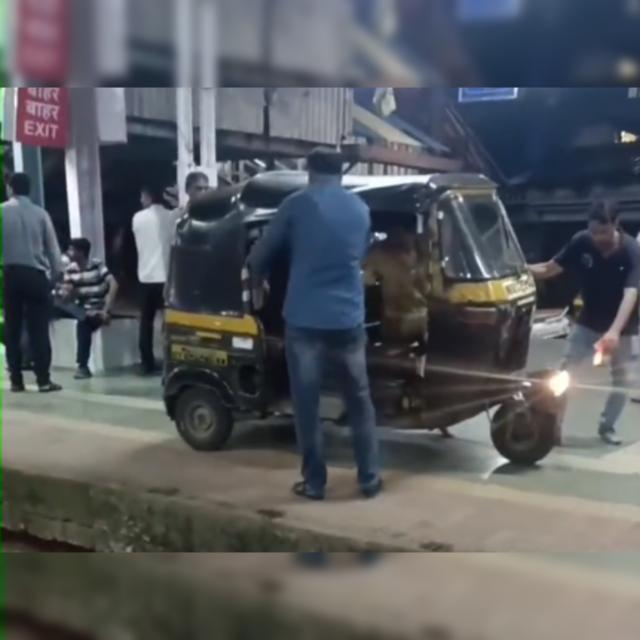autorickshaw: (342, 173, 569, 464), (164, 171, 308, 450)
